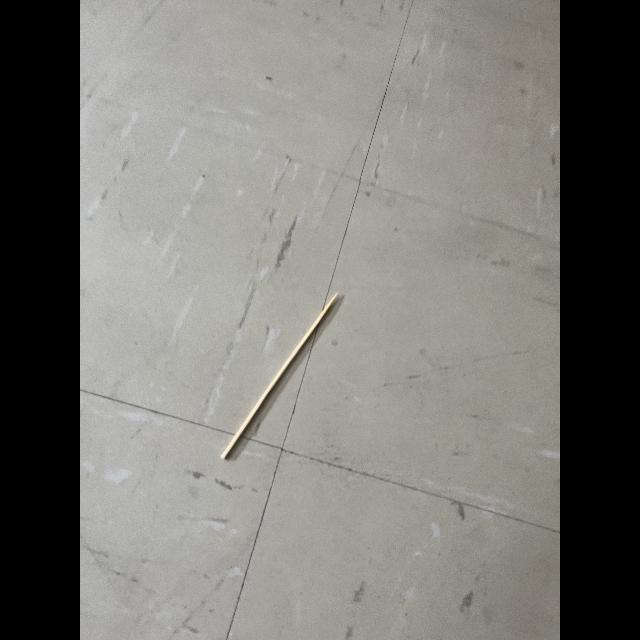stick: (208, 278, 354, 478)
